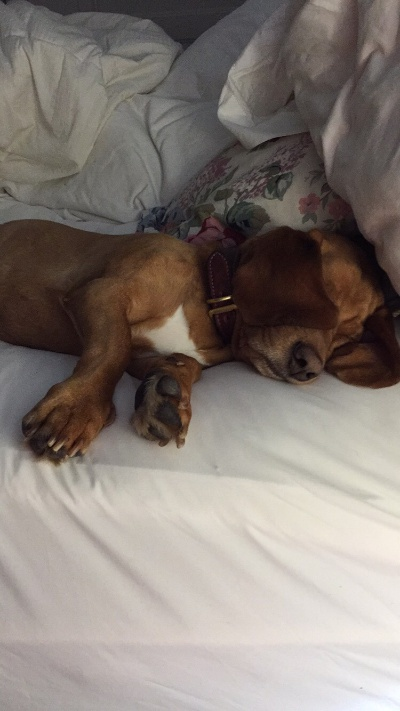daisy: (216, 206, 400, 410)
